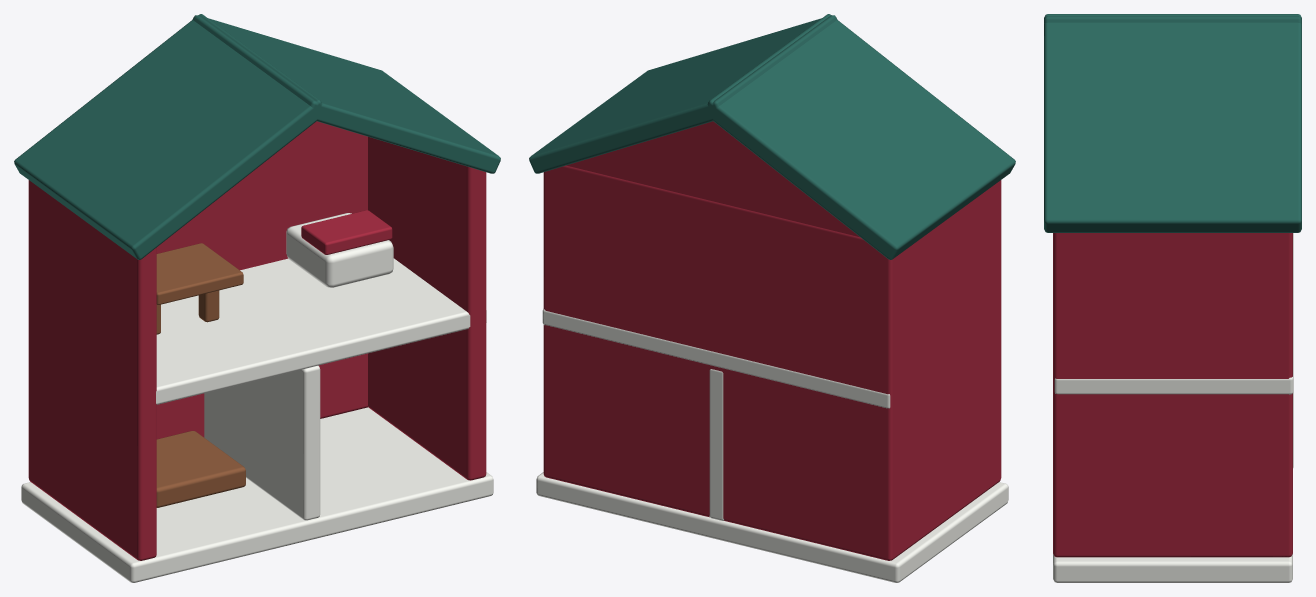
The model's file is christmas-storybook-miniature-dollhouse-3fa75d89__18758.glb.
3 renders of one model, left to right at view 1: azimuth 30°, elevation 25°; view 2: azimuth 150°, elevation 25°; view 3: azimuth 270°, elevation 25°, orthographic. The views are drawn at different scales.
Visible parts, largest first — view 1: berry, cream, pine, oak; view 2: berry, pine, cream; view 3: berry, pine, cream.
Part boxes in pixels (x1,y1,x2,y2): berry: (28, 121, 486, 560); cream: (21, 213, 493, 582); pine: (14, 14, 500, 259); oak: (156, 243, 245, 507); berry: (543, 121, 1001, 560); pine: (529, 14, 1015, 259); cream: (536, 309, 1008, 582); berry: (1053, 233, 1292, 557); pine: (1044, 14, 1301, 232); cream: (1053, 233, 1293, 582).
Bounding box in the file's own units: 0.7615 × 0.8721 × 0.43.
